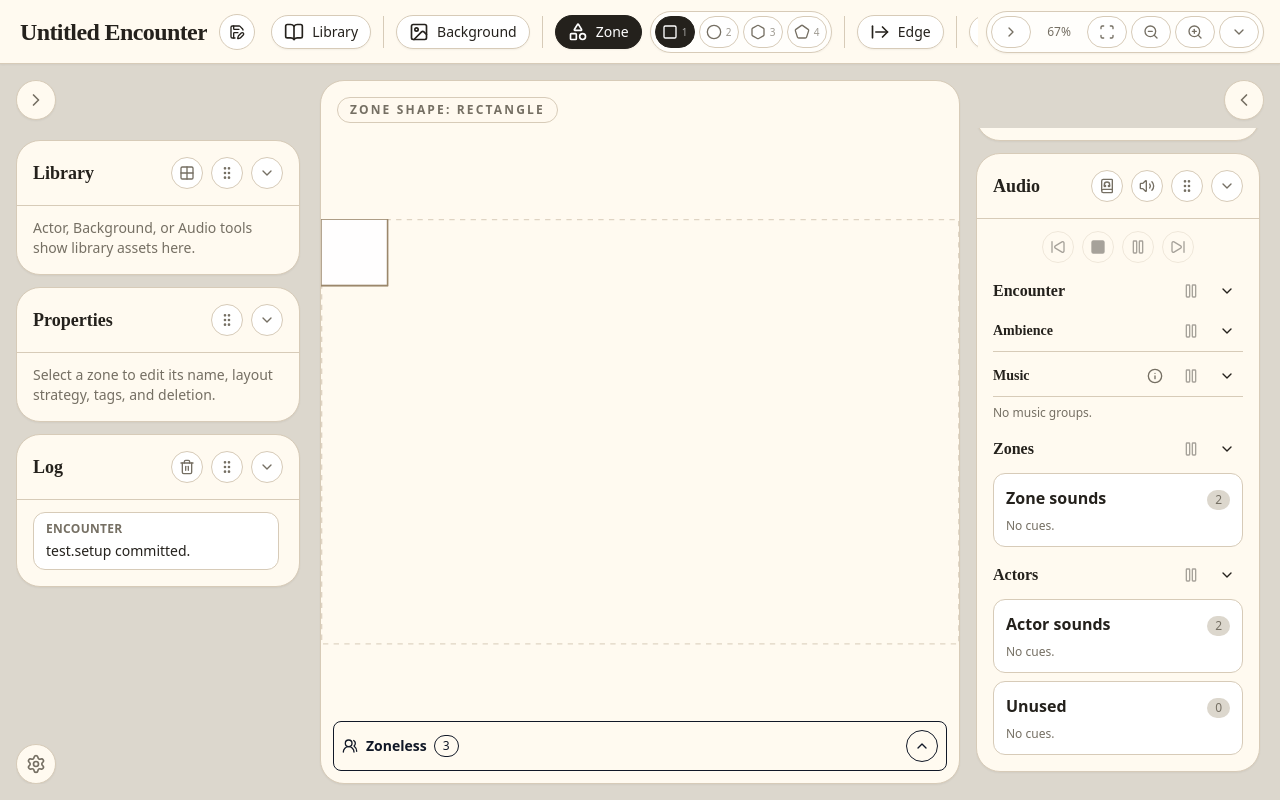
Test: Audio panel group members › shows numeric member counts and lists duplicate names on hover and focus
This screenshot has width=1280, height=800.
(page scrolled)
Hover over the element showing "2" below "Actors": (1219, 624) top-left (1207, 612), bottom-right (1230, 636)
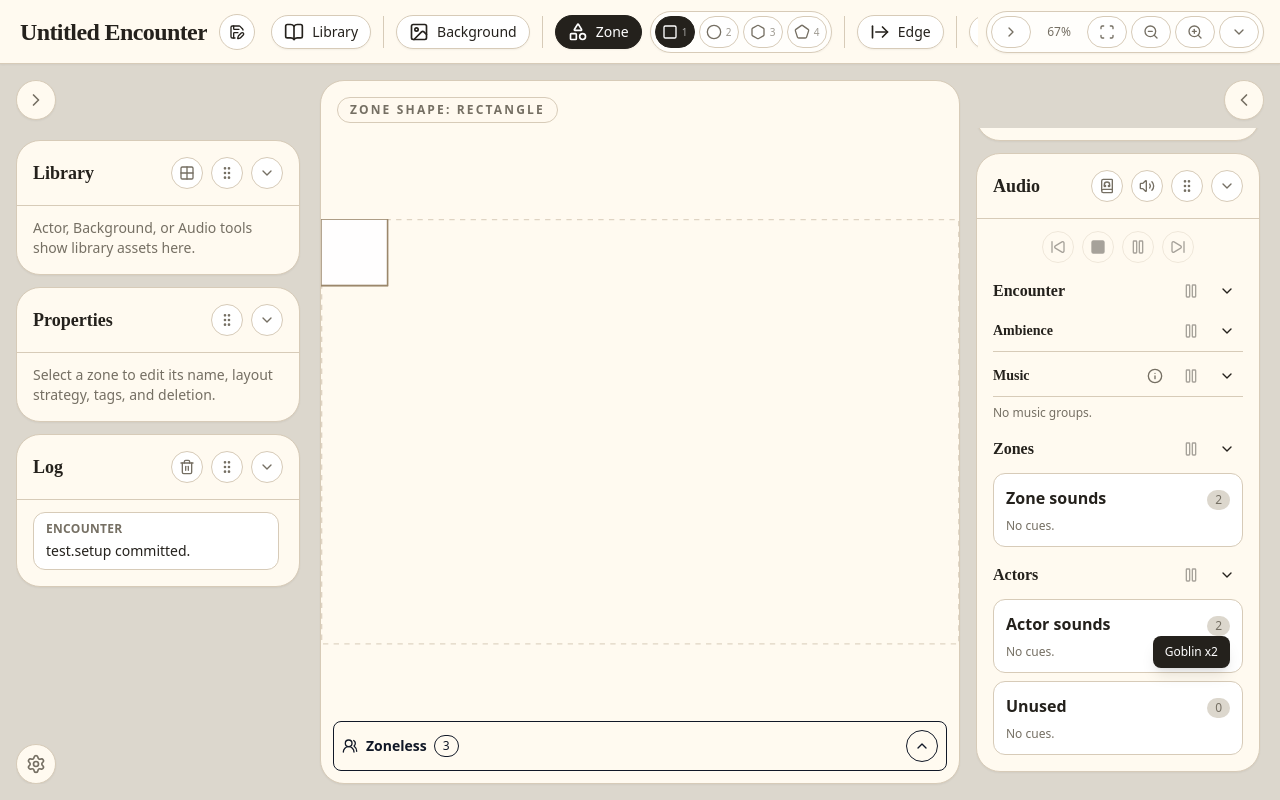
Expected: the tooltip reads "Goblin x2", top-left (1165, 643), bottom-right (1218, 660)
Move the pointer off the element showing "2 Goblin x2", box top-left (1207, 612), bottom-right (1230, 636)
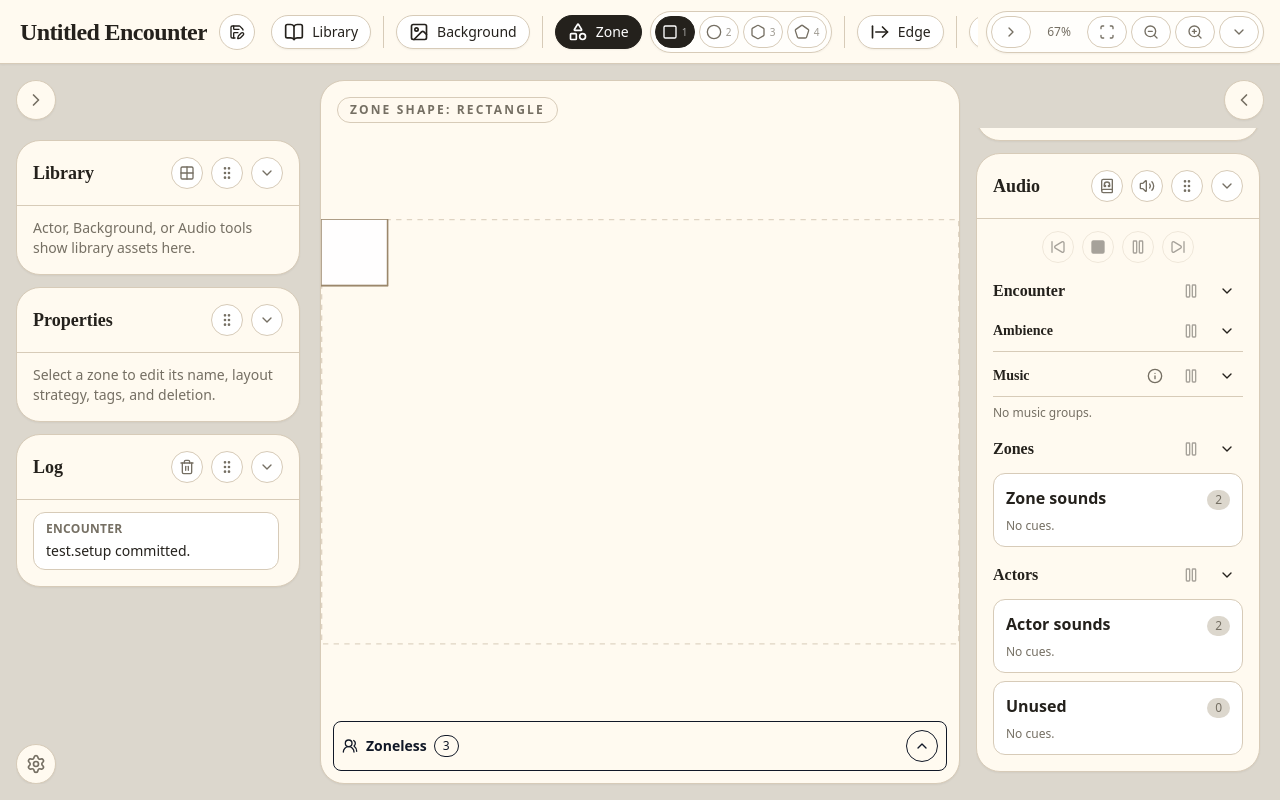
Expected: the tooltip "Goblin x2" is gone
Focus the button named "Select all 2 actor members of Actor sounds": (1219, 626) top-left (1207, 616), bottom-right (1230, 636)
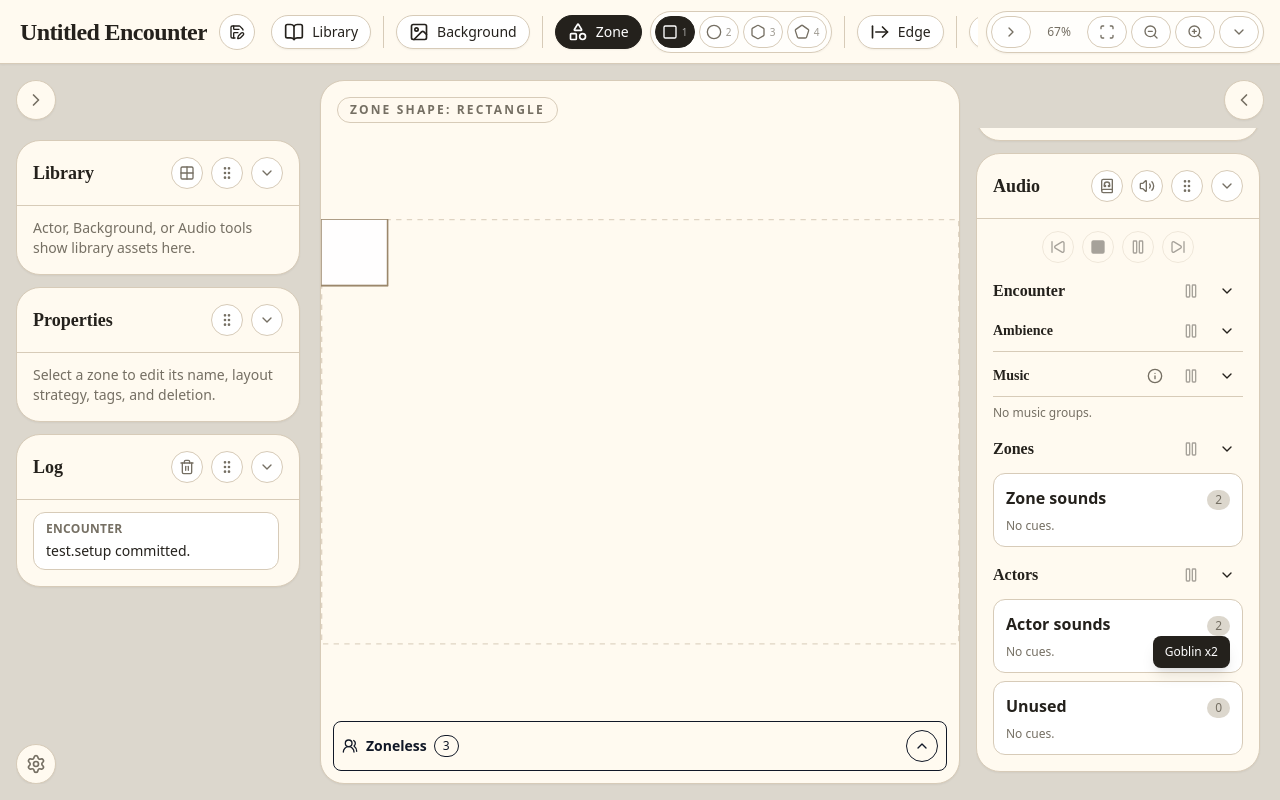
Expected: the tooltip reads "Goblin x2", top-left (1165, 643), bottom-right (1218, 660)
Leave the button named "Select all 2 actor members of Actor sounds", box top-left (1207, 616), bottom-right (1230, 636)
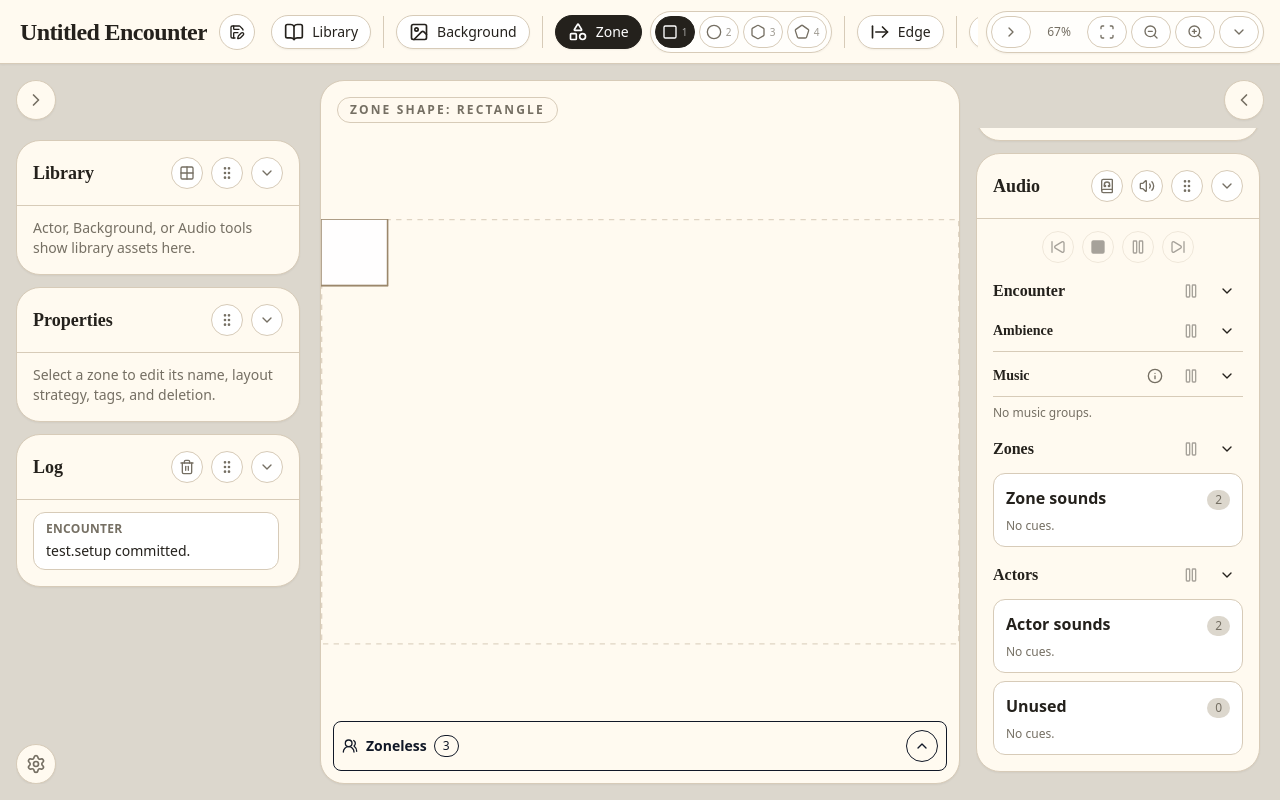
Expected: the tooltip "Goblin x2" is gone
Hover over the element showing "2" below "Zones": (1219, 498) top-left (1207, 486), bottom-right (1230, 510)
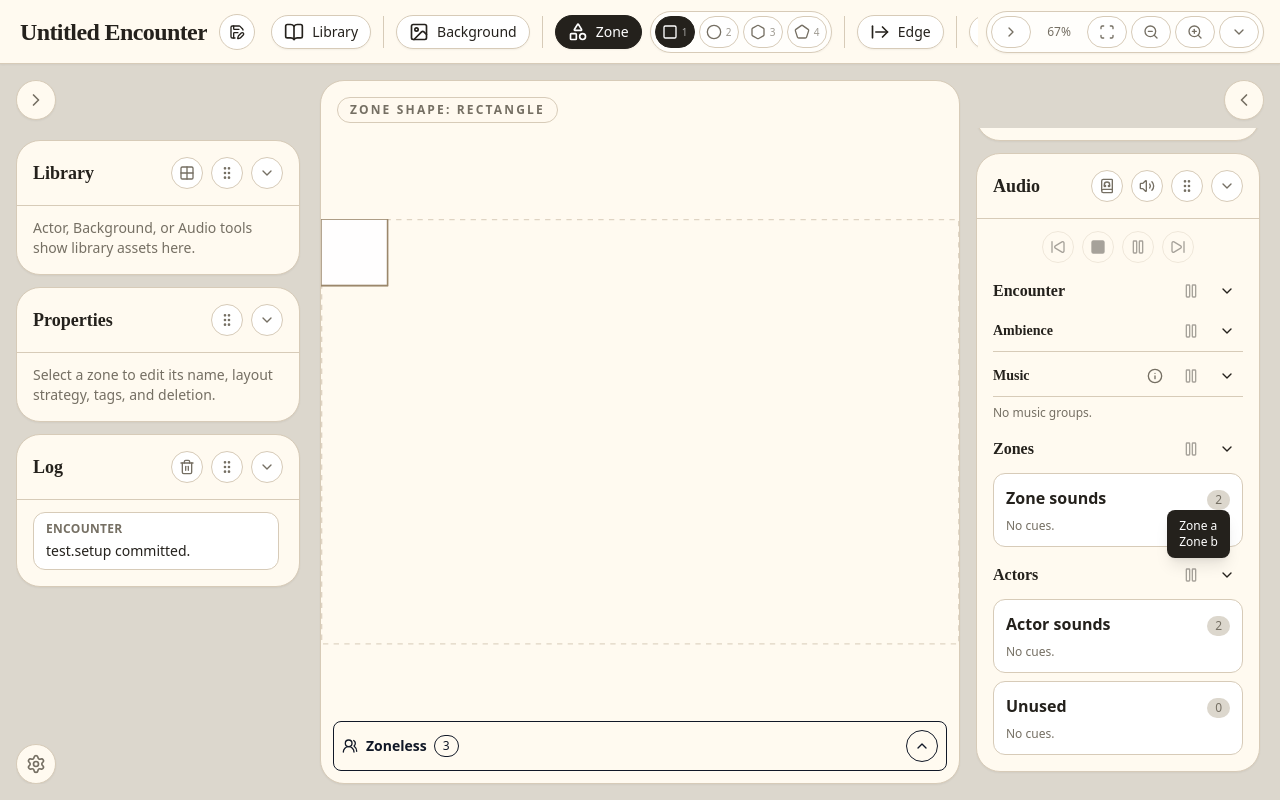
Expected: the tooltip shows "Zone a", top-left (1179, 517), bottom-right (1217, 534)
Expected: the tooltip shows "Zone b", top-left (1179, 533), bottom-right (1218, 550)
